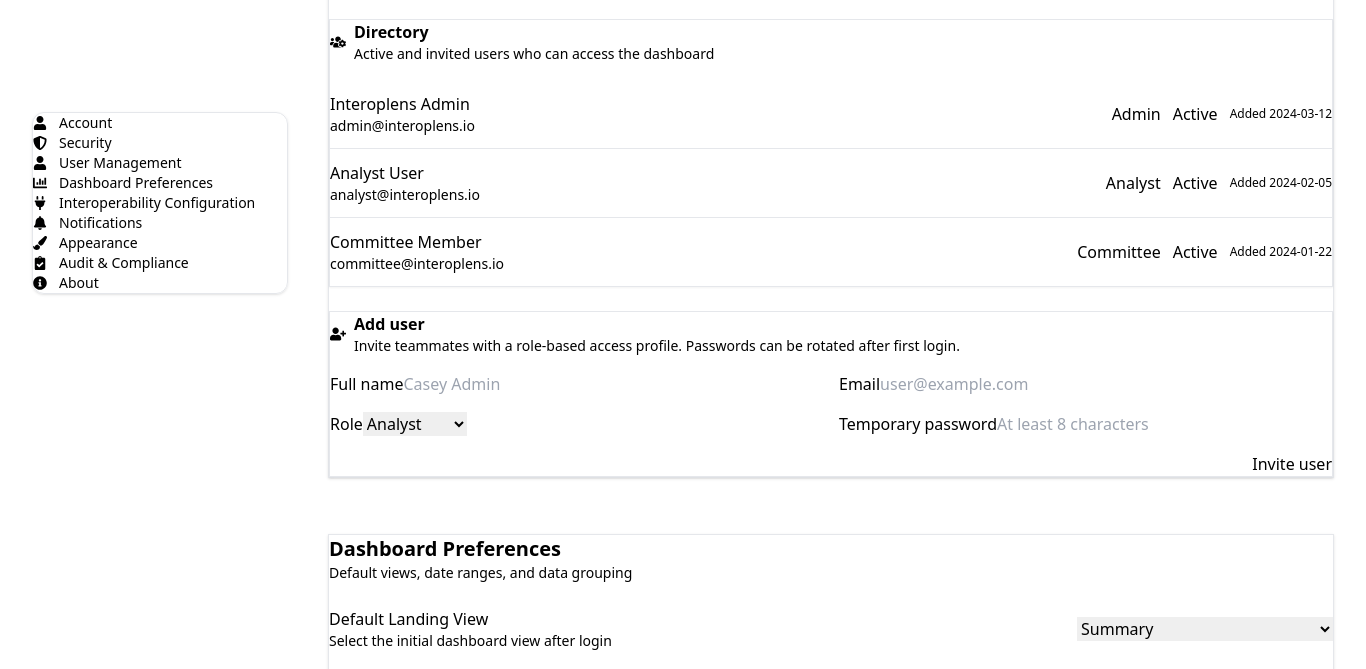
Test: SettingsPage user management › shows seeded users and invites a new analyst when admin adds them
(page scrolled)
Expected: the text "Interoplens Admin" is shown, [330,92,475,116]
In the field labelled "Full name": (519, 384) [404,372,634,396], type "Alex Analyst"
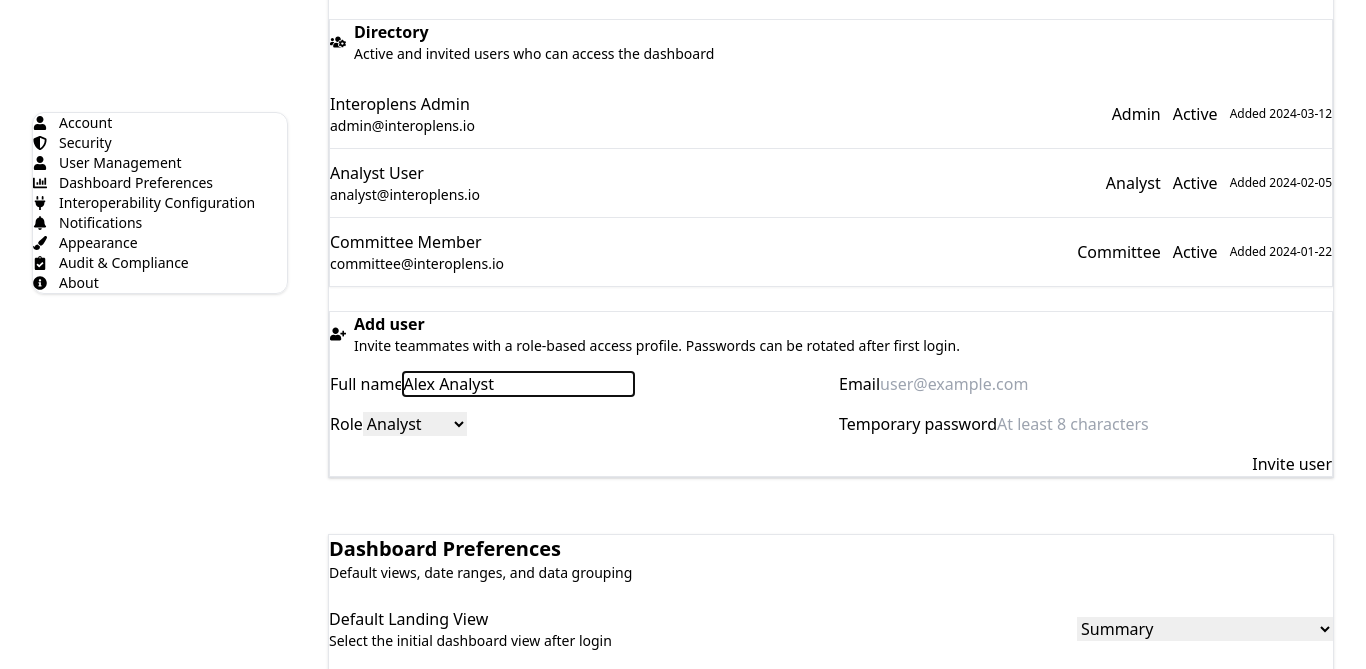
In the field labelled "Email": (996, 384) [880,372,1111,396], type "alex@example.com"
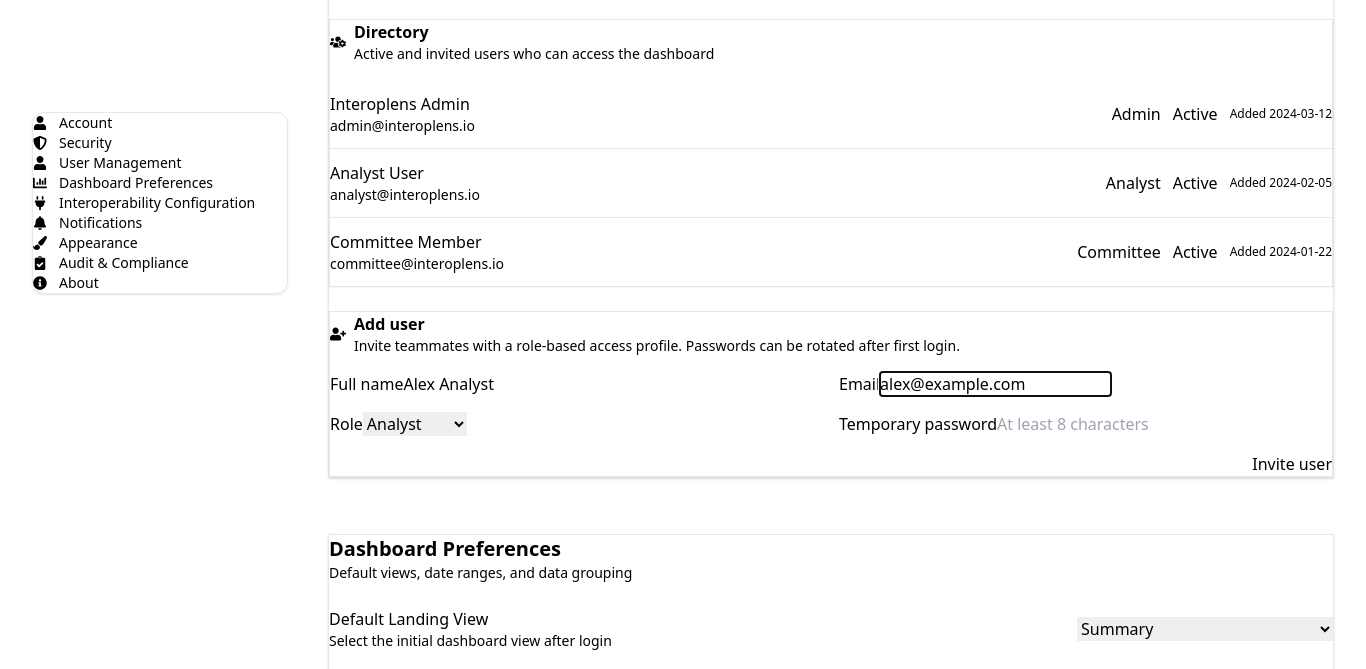
Select "Analyst" in the dropdown labelled "Role": (415, 424) [363,412,467,436]
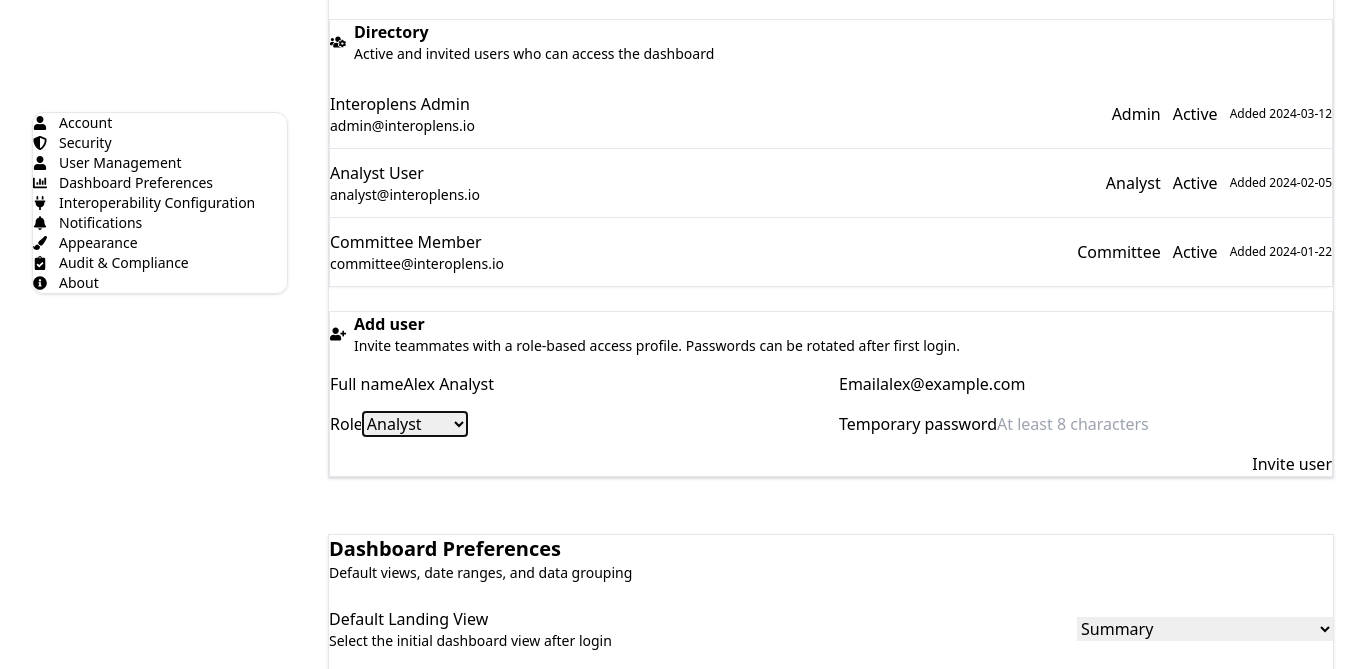
In the password field labelled "Temporary password": (1112, 424) [997,412,1228,436], type "Temp1234!"
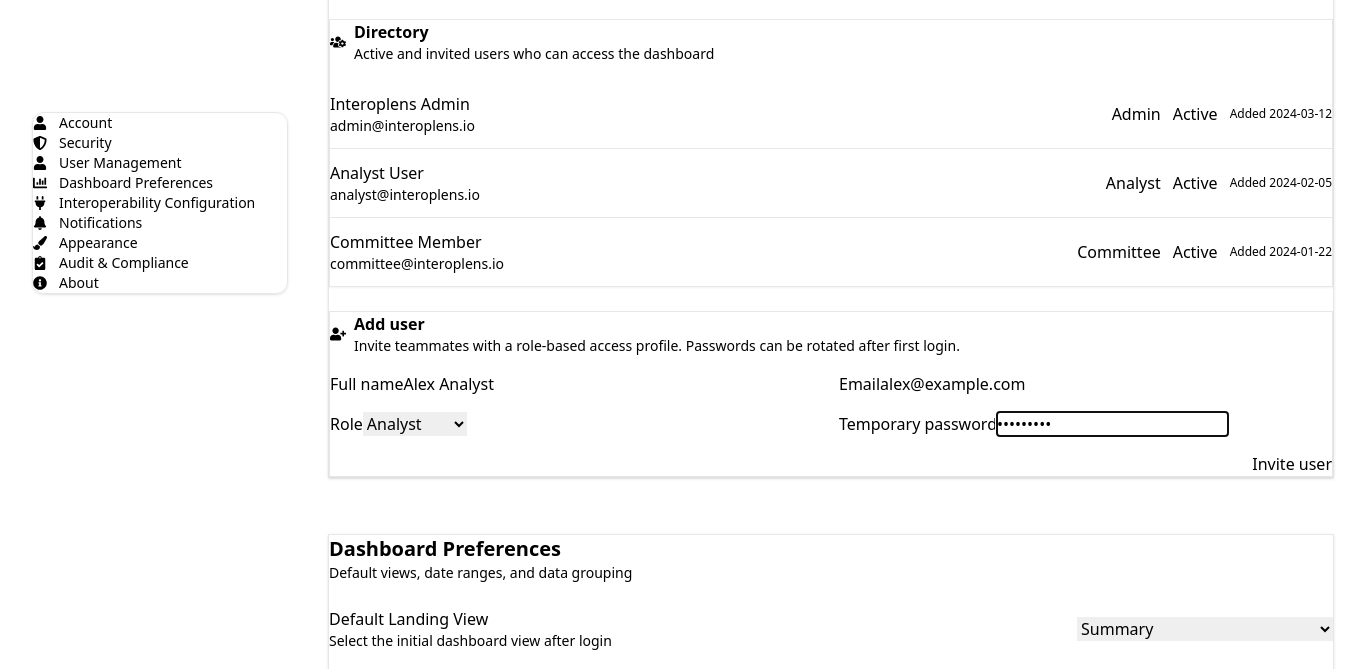
Click the button "Invite user": (1292, 464) [1252,452,1332,476]
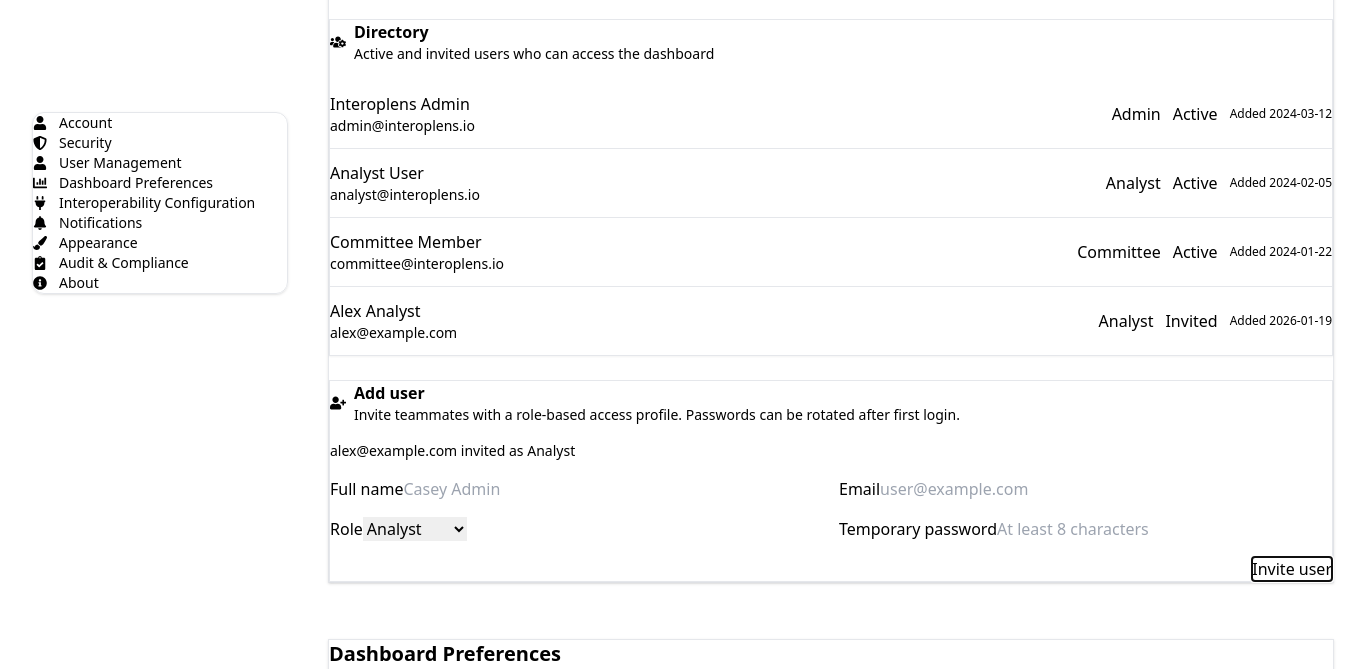
Now the text "alex@example.com invited as Analyst" is shown, box [330,441,575,460]
Now the text "alex@example.com" is shown, box [330,323,457,343]
Now the text "Invited" is shown, box [1165,309,1218,333]
